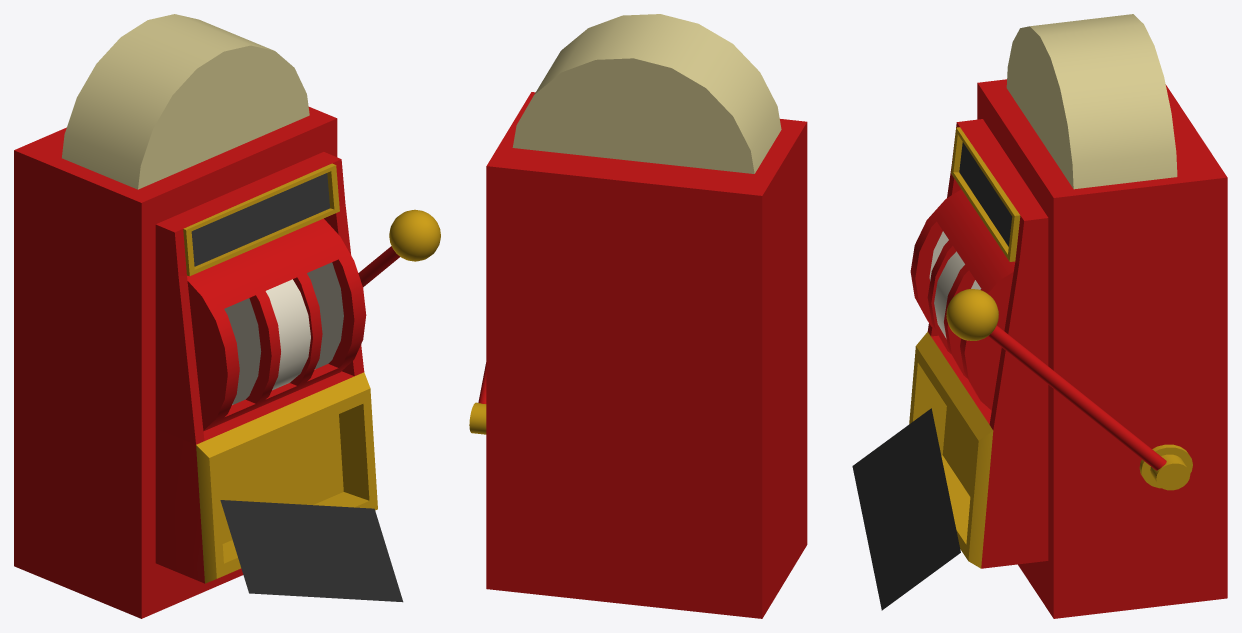
The model's file is Maquina de slots partida NOVA.fbx.
3 views of the same model, side by side, from view 1: azimuth 30°, elevation 25°; view 2: azimuth 150°, elevation 25°; view 3: azimuth 270°, elevation 25° (orthographic).
Parts seen in each view (by area): view 1: polySurface255; view 2: polySurface255; view 3: polySurface255.
Part boxes in pixels (left/top/right/bottom): polySurface255: left=14, top=14, right=440, bottom=618; polySurface255: left=469, top=14, right=807, bottom=618; polySurface255: left=852, top=14, right=1227, bottom=618.
Bounding box in the file's own units: 1.15 × 1.69 × 1.1.
3 materials, 3 textured.
